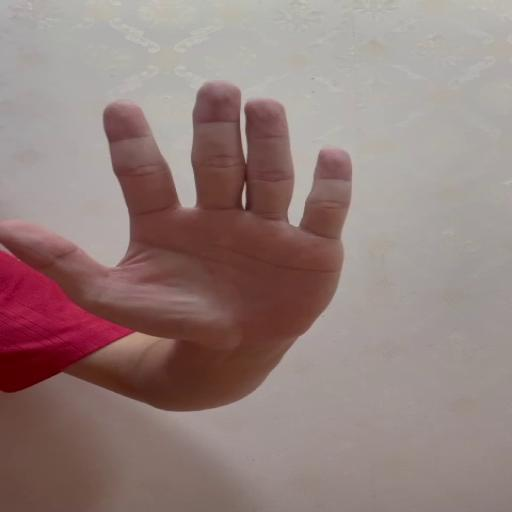open_palm: (0, 78, 354, 351)
